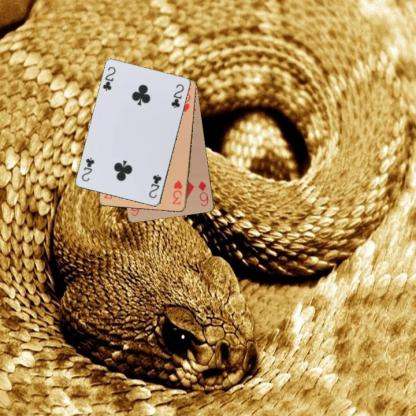2c: (100, 64, 117, 93), (146, 172, 163, 200)
3h: (170, 178, 184, 206)
6d: (195, 178, 210, 208)
